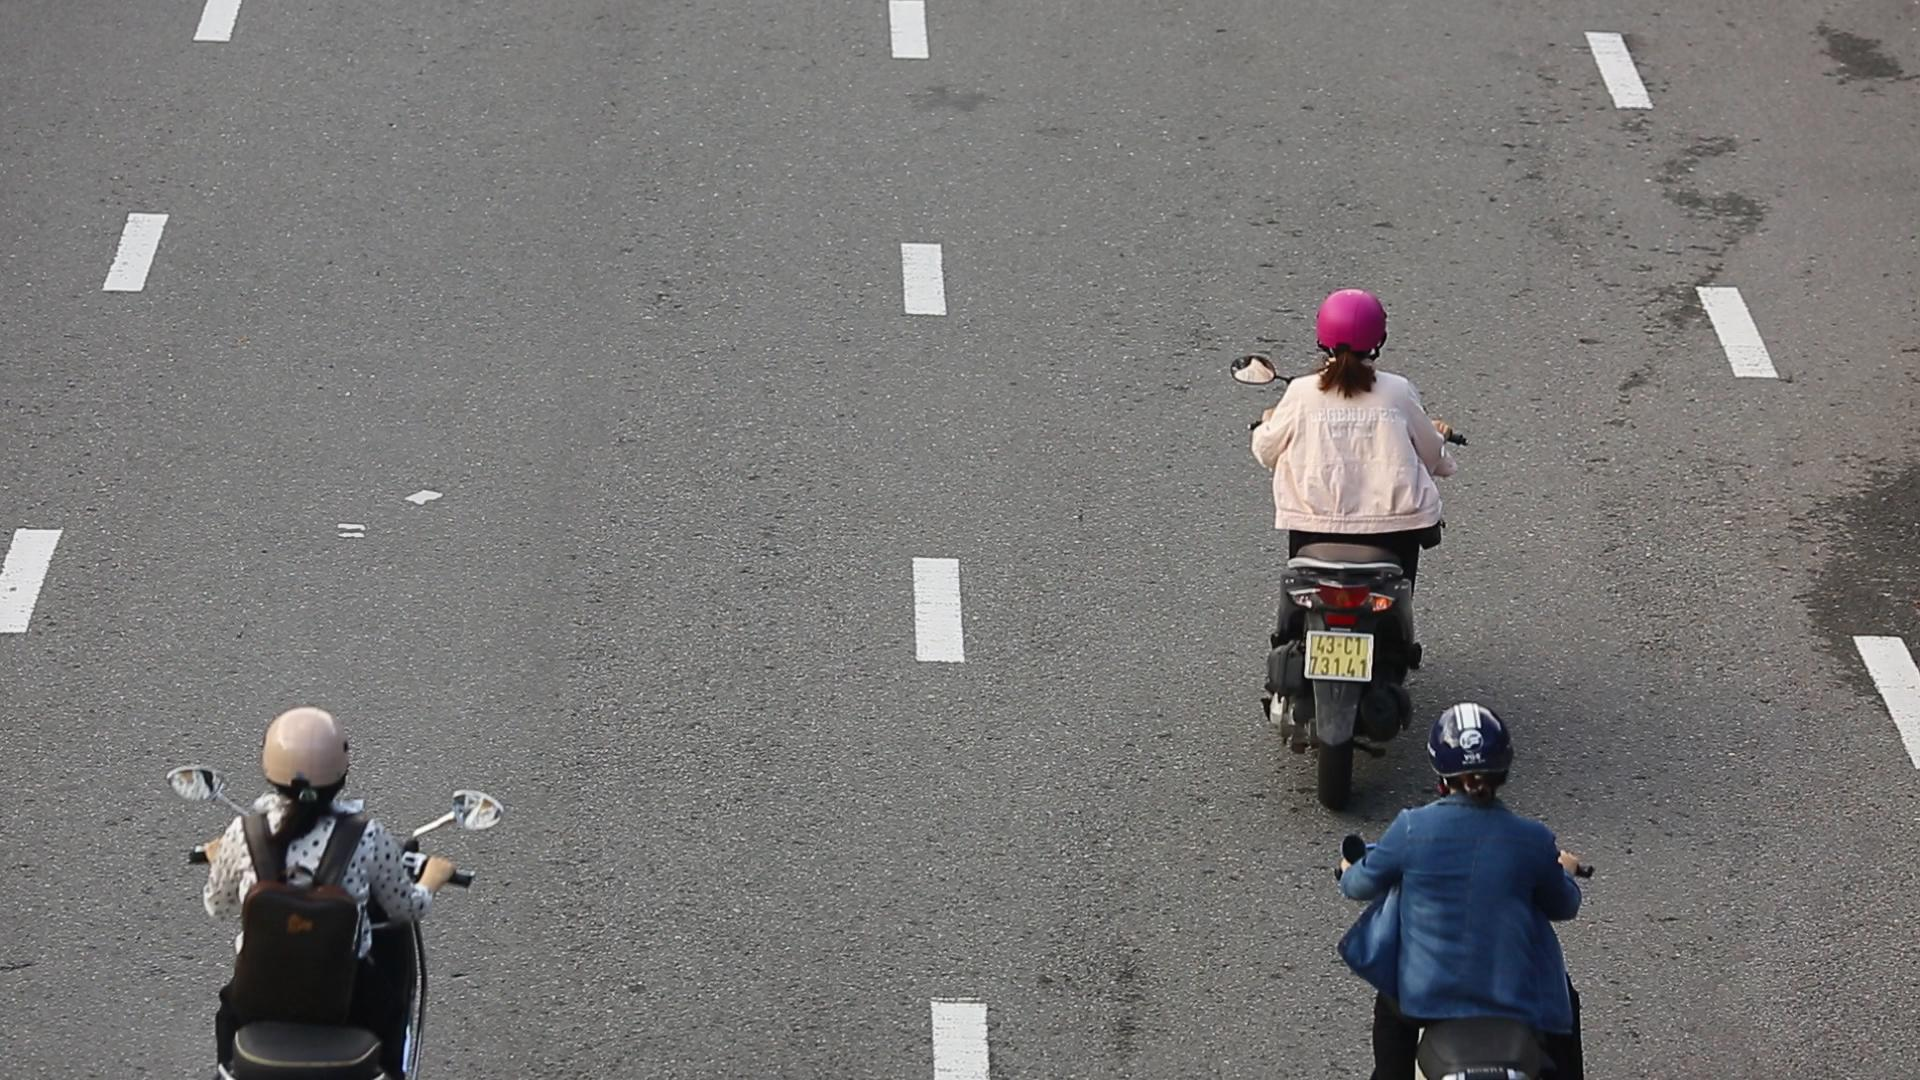motobike: (1216, 277, 1468, 800)
